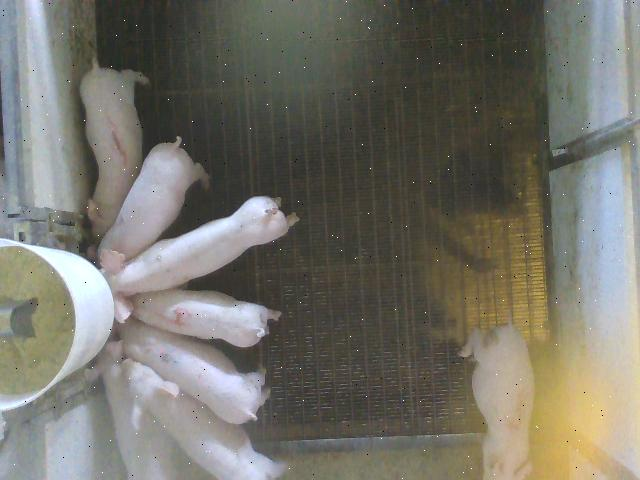pig-1: (80, 60, 149, 241)
pig-3: (460, 322, 534, 478)
pig-4: (131, 289, 281, 348)
